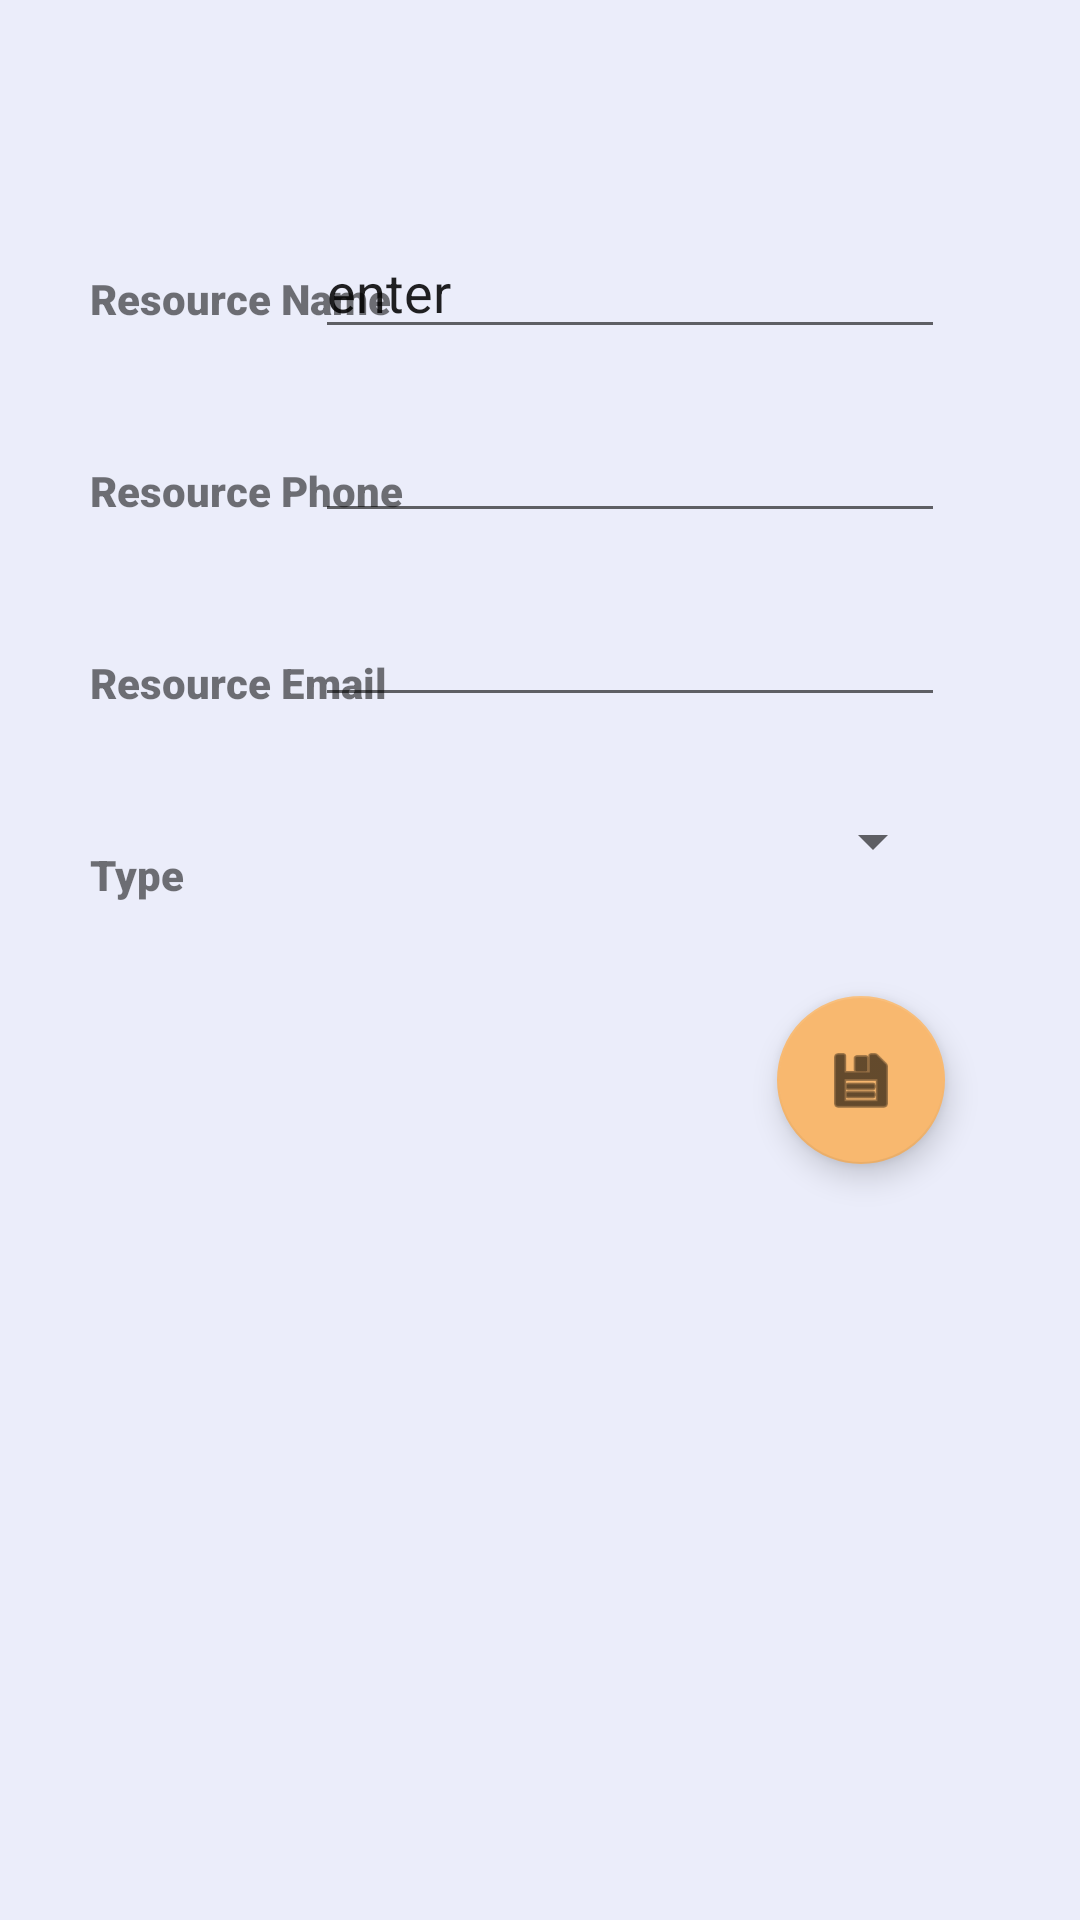

Icons on this 1080px x 1920px Android screen, each with the point to tap as (x,y):
save: (861,1080)
